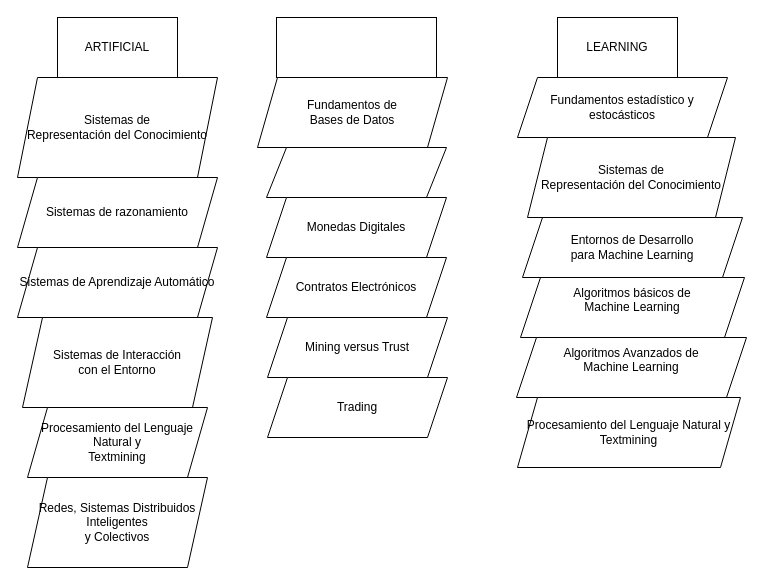
This 764x585 diagram has some shape labels left out. The shapes that lost their labels are listed below. From the top down, each one's centre as x and y in pixels, then its label:
[356,47]: BLOCKCHAIN-CRYPTOCURRENCIES
[356,172]: Criptografía
